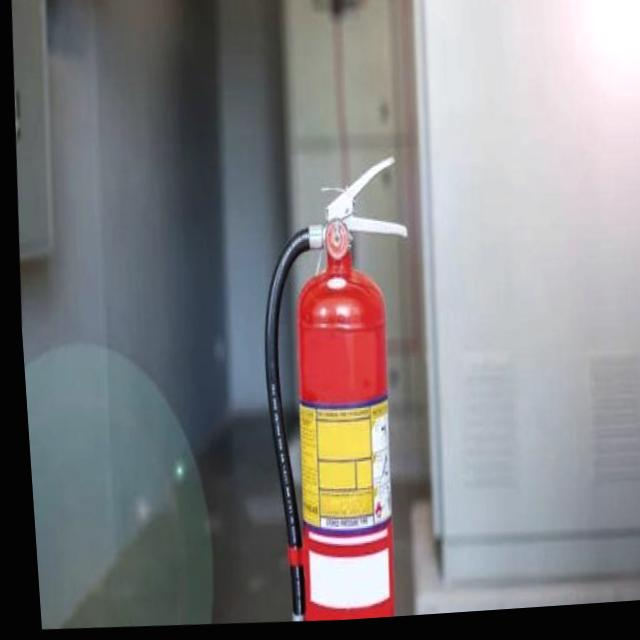FireExtinguisher: (233, 145, 432, 628)
